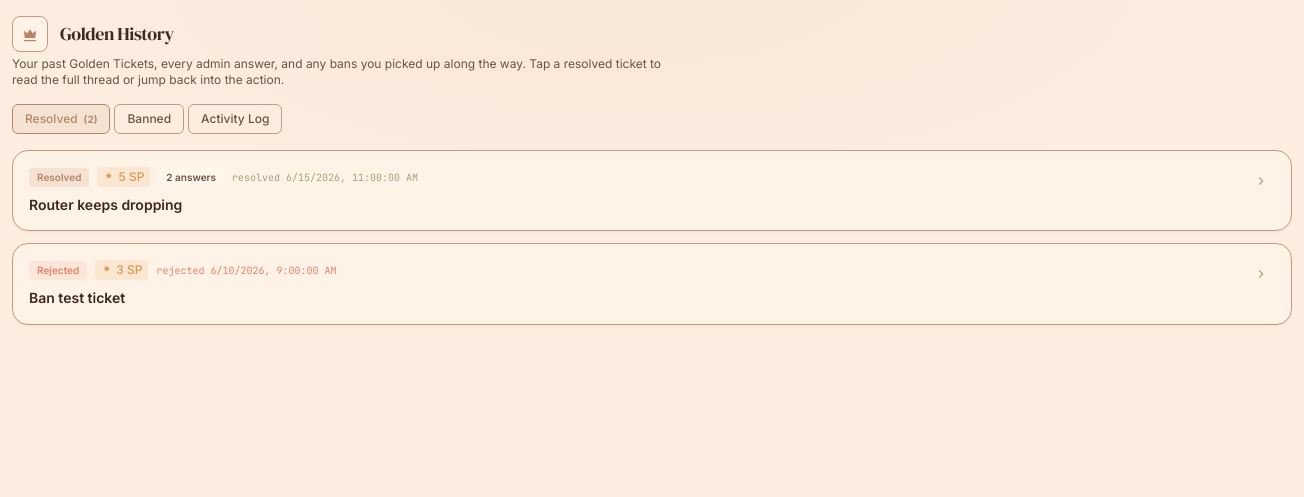
GoldenHistorySection › expands a Rejected card to reveal the rejection reason
The image size is (1304, 497).
Click the button "Ban test ticket" at (58, 270), box x1=13 y1=244 x2=1291 y2=324
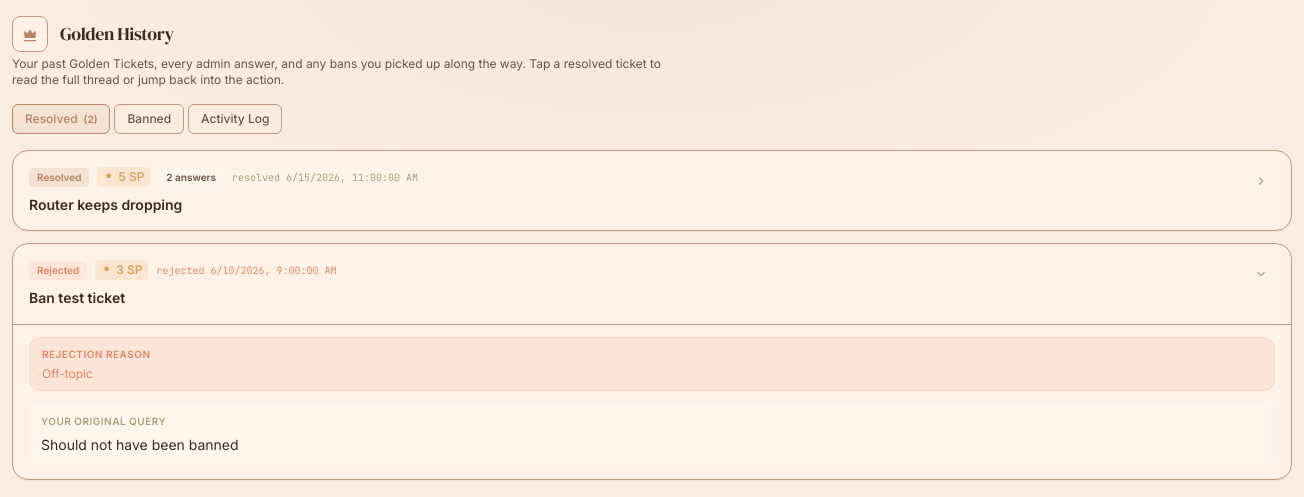
Now the text "Rejection reason Off-topic" is shown, box x1=29 y1=336 x2=1275 y2=390
